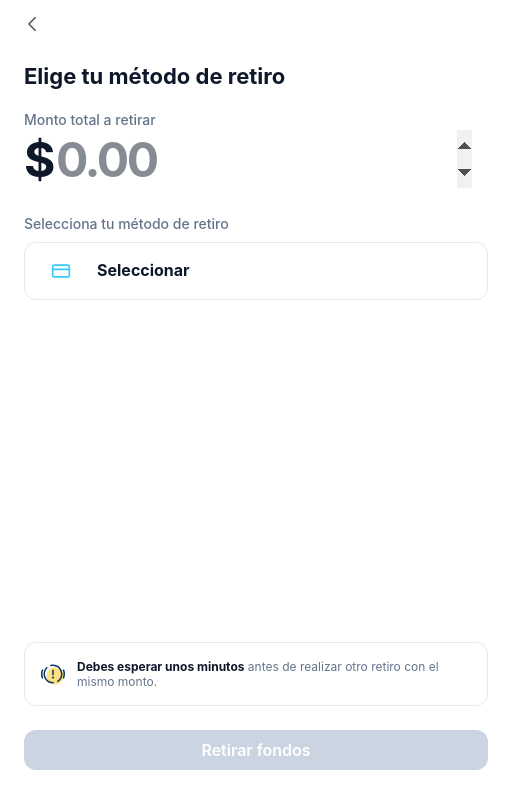
Test case: WithdrawalFlow › validates amount is within balance
The image size is (513, 802).
Type "100" into the number field with placeholder "0.00" at [256, 160], box [24,130,488,189]
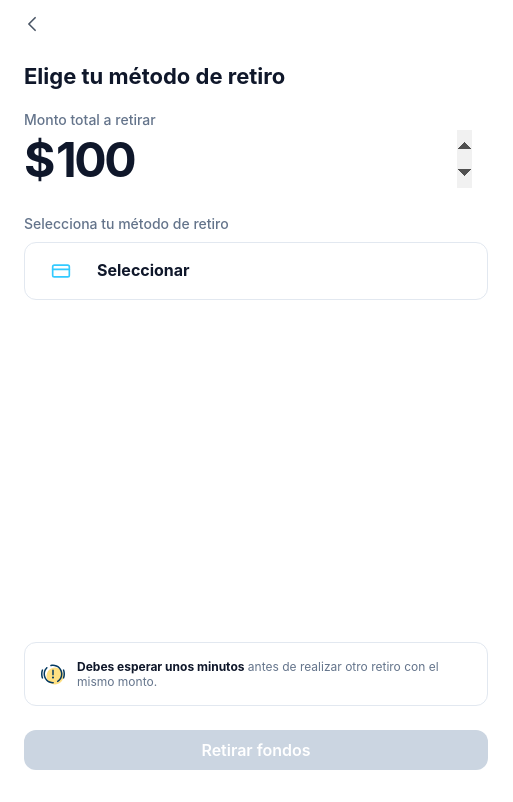
Submit the form with placeholder "0.00"
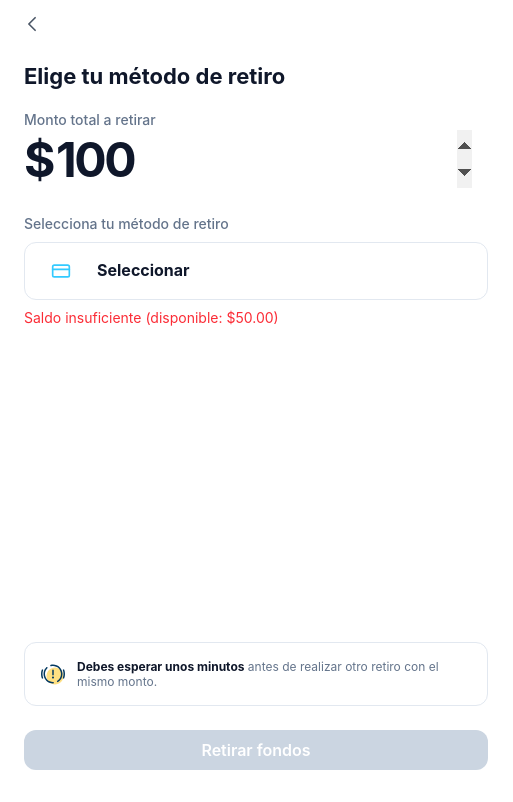
Check: the text "Saldo insuficiente (disponible: $50.00)" is shown, box [24,309,279,326]
